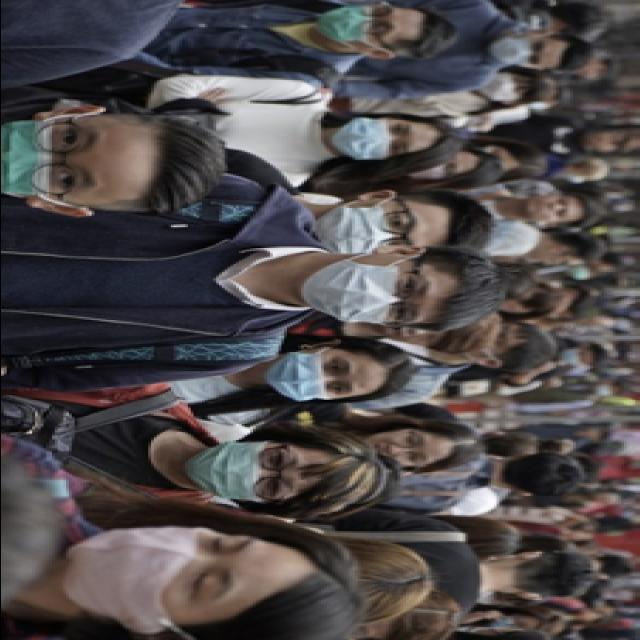with_mask: (59, 524, 264, 634), (303, 256, 439, 325), (5, 116, 114, 202), (187, 440, 309, 506), (314, 202, 430, 256), (266, 350, 360, 404), (329, 117, 419, 163), (317, 5, 405, 48), (493, 36, 558, 70), (413, 152, 468, 182), (482, 72, 530, 102), (558, 347, 595, 368)
without_mask: (366, 427, 434, 469), (377, 325, 453, 347), (526, 195, 580, 224), (532, 250, 578, 268), (595, 132, 626, 154)
